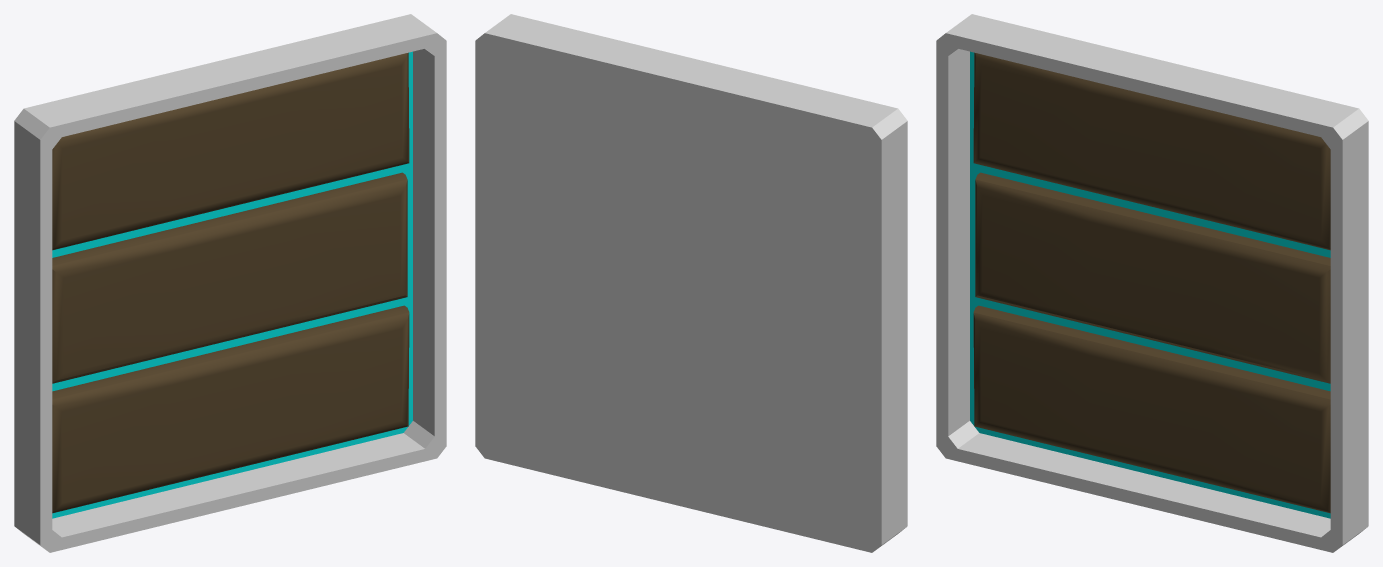
Rendered from SM_Plot_Irrigation.fbx.
3 renders of one model, left to right at view 1: azimuth 30°, elevation 25°; view 2: azimuth 150°, elevation 25°; view 3: azimuth 330°, elevation 25°, orthographic.
Visible parts, largest first — view 1: pCube1; view 2: pCube1; view 3: pCube1.
Boxes of the visible parts, bbox=[...] form: pCube1: bbox=[14, 14, 446, 552]; pCube1: bbox=[475, 14, 907, 552]; pCube1: bbox=[936, 14, 1368, 552].
Bounding box in the file's own units: 2.32 × 2.32 × 0.2579.
